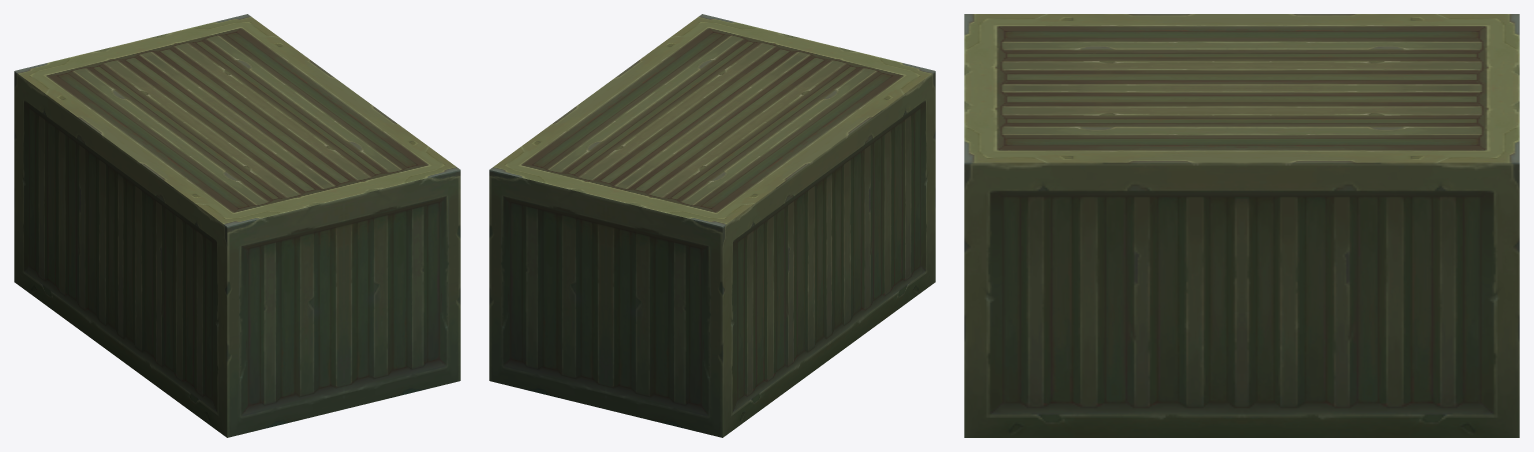
File: scene_malujiakuangdao_tiexiang01.FBX
3 renders of one model, left to right at view 1: azimuth 30°, elevation 25°; view 2: azimuth 150°, elevation 25°; view 3: azimuth 270°, elevation 25°, orthographic. The views are drawn at different scales.
Parts seen in each view (by area): view 1: scene_malujiakuangdao_tiexiang01; view 2: scene_malujiakuangdao_tiexiang01; view 3: scene_malujiakuangdao_tiexiang01.
Part boxes in pixels (x1,y1,x2,y2): scene_malujiakuangdao_tiexiang01: [14, 14, 460, 437]; scene_malujiakuangdao_tiexiang01: [489, 14, 935, 437]; scene_malujiakuangdao_tiexiang01: [964, 14, 1519, 437].
Size of the model in its own units: 156 by 134 by 246.
